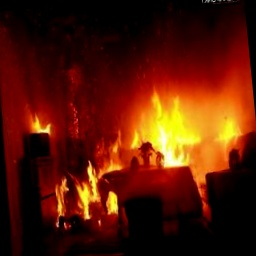fire: (26, 62, 256, 235)
